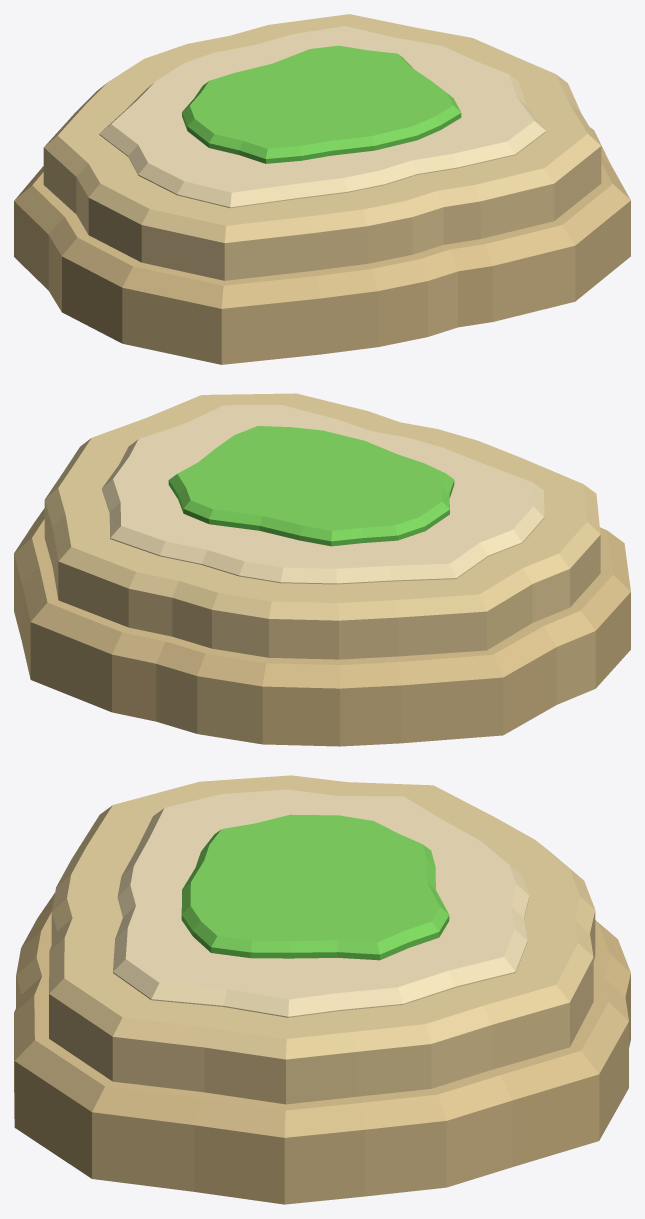
The model's file is Islet_1.glb.
3 renders of one model, top to bottom at view 1: azimuth 30°, elevation 25°; view 2: azimuth 150°, elevation 25°; view 3: azimuth 270°, elevation 25°, orthographic. The views are drawn at different scales.
Parts seen in each view (by area): view 1: Islet_1; view 2: Islet_1; view 3: Islet_1.
Boxes of the visible parts, bbox=[...] form: Islet_1: bbox=[14, 14, 630, 364]; Islet_1: bbox=[14, 393, 630, 746]; Islet_1: bbox=[14, 775, 630, 1204].
Bounding box in the file's own units: 28.61 × 7.4 × 24.3.
1 material, 1 textured.
